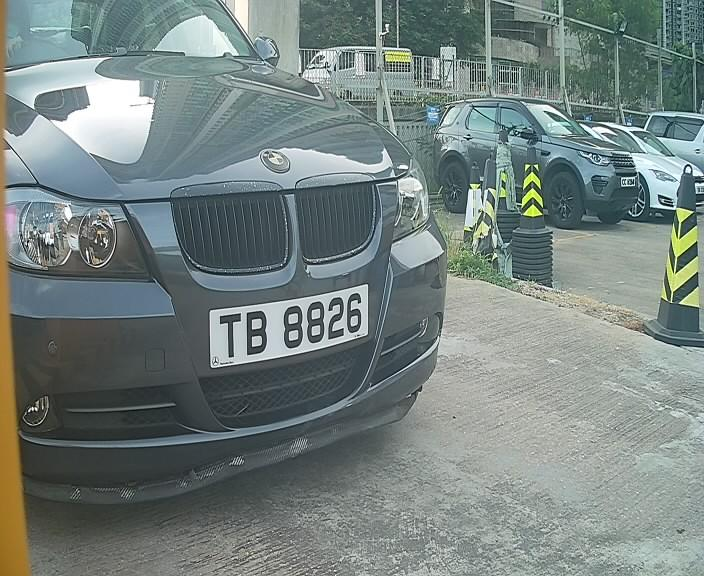License Plate: (208, 276, 374, 373)
